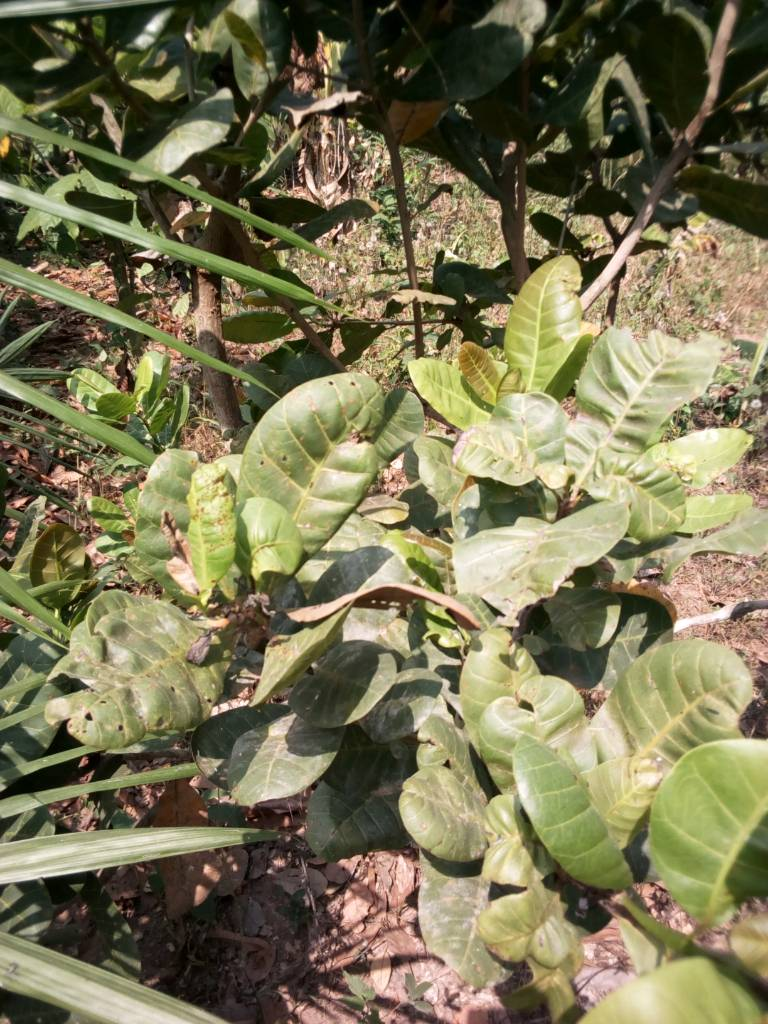Helopeltis anacardii: (52, 596, 235, 736), (236, 374, 386, 538), (254, 591, 371, 700), (452, 394, 574, 483), (182, 463, 238, 597)
